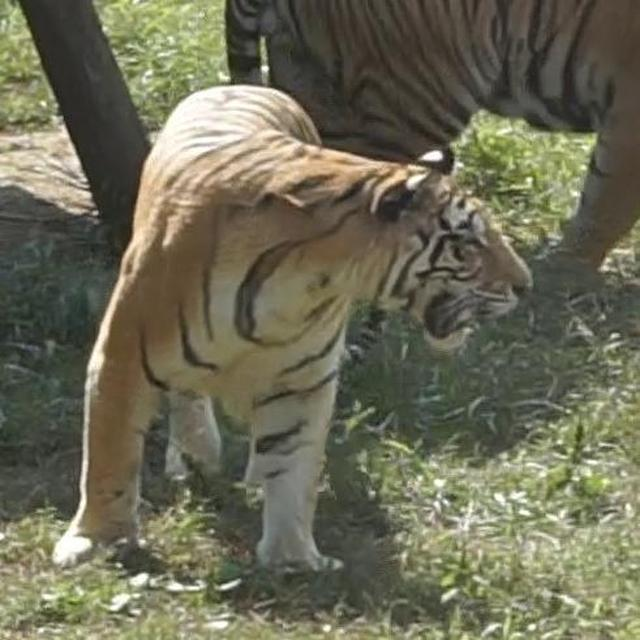tiger: (53, 64, 534, 602), (220, 0, 640, 316)
